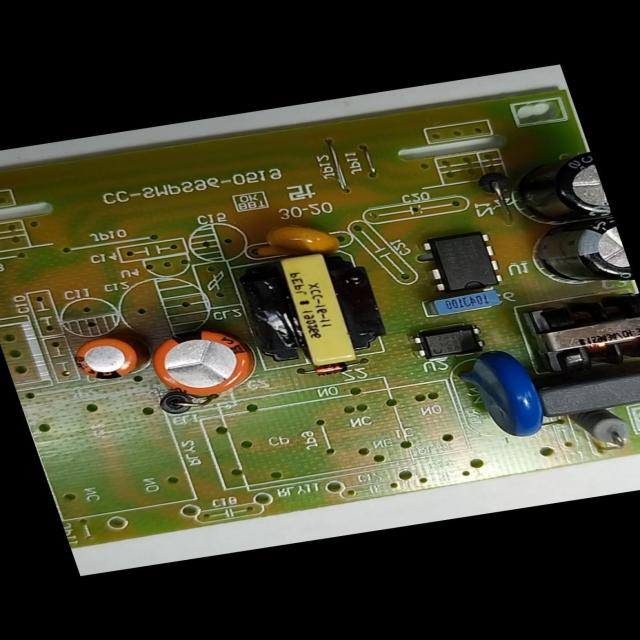Cap1: (134, 318, 274, 410)
Cap2: (55, 323, 157, 390)
Cap3: (510, 210, 635, 298)
Cap4: (487, 148, 614, 238)
MOSFET: (410, 225, 514, 303)
Mov: (447, 340, 556, 448)
Resistor: (563, 403, 639, 457)
Transformer: (224, 243, 398, 379), (515, 290, 639, 380)
